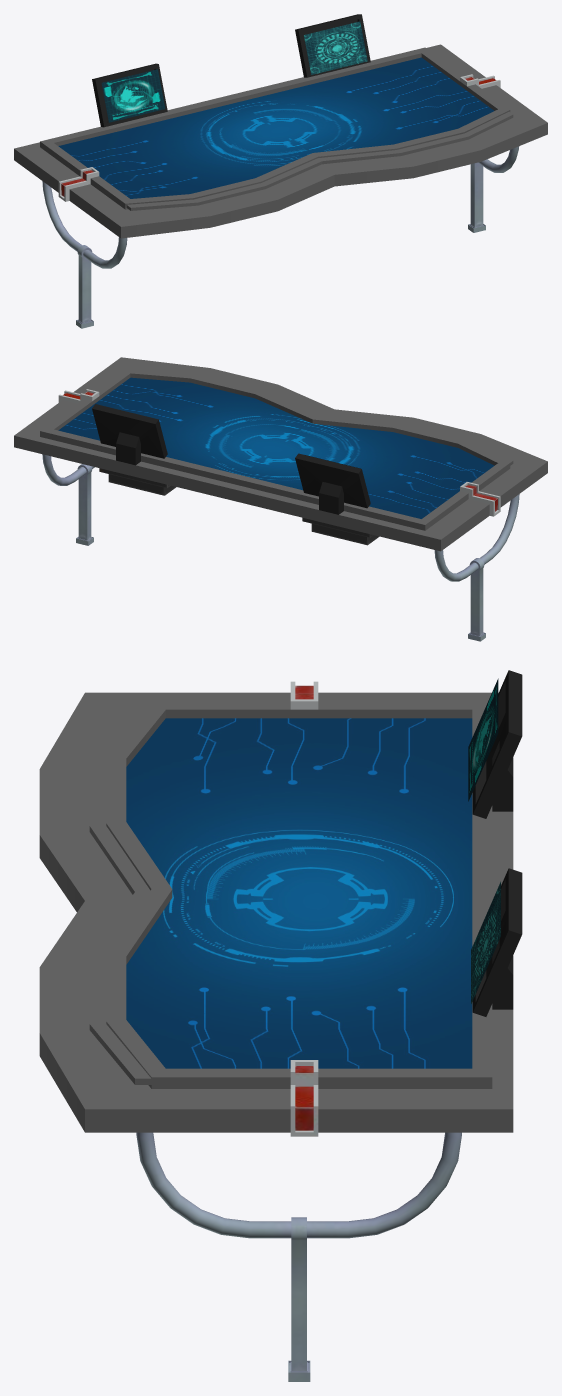
The model's file is scifi-table.fbx.
3 renders of one model, top to bottom at view 1: azimuth 30°, elevation 25°; view 2: azimuth 150°, elevation 25°; view 3: azimuth 270°, elevation 25°, orthographic. The views are drawn at different scales.
Parts seen in each view (by area): view 1: Cube.001, Cube, Cube.002, Cube.004, Cube.003, Cylinder, Plane, Cube.005; view 2: Cube, Cube.001, Cube.003, Cylinder, Plane, Cube.006, Cube.005; view 3: Cube.001, Cube, Cube.003, Plane, Cube.005, Cylinder, Cube.002, Cube.004.
Part boxes in pixels (x1=…): Cube.001: x1=58, y1=57, x2=493, y2=198; Cube: x1=14, y1=44, x2=547, y2=238; Cube.002: x1=101, y1=69, x2=165, y2=122; Cube.004: x1=304, y1=21, x2=367, y2=74; Cube.003: x1=92, y1=14, x2=370, y2=127; Cylinder: x1=76, y1=162, x2=485, y2=328; Plane: x1=42, y1=146, x2=519, y2=268; Cube.005: x1=58, y1=74, x2=500, y2=201; Cube: x1=14, y1=357, x2=547, y2=551; Cube.001: x1=58, y1=377, x2=494, y2=518; Cube.003: x1=92, y1=404, x2=370, y2=514; Cylinder: x1=76, y1=464, x2=485, y2=641; Plane: x1=42, y1=454, x2=519, y2=581; Cube.006: x1=99, y1=468, x2=379, y2=545; Cube.005: x1=58, y1=389, x2=500, y2=516; Cube.001: x1=126, y1=718, x2=472, y2=1068; Cube: x1=39, y1=692, x2=513, y2=1132; Cube.003: x1=472, y1=670, x2=522, y2=1016; Plane: x1=136, y1=1132, x2=461, y2=1238; Cube.005: x1=290, y1=681, x2=318, y2=1136; Cylinder: x1=288, y1=1217, x2=310, y2=1381; Cube.002: x1=468, y1=678, x2=498, y2=801; Cube.004: x1=471, y1=881, x2=500, y2=1004.
Bounding box in the file's own units: 46911 × 19805 × 22520.
